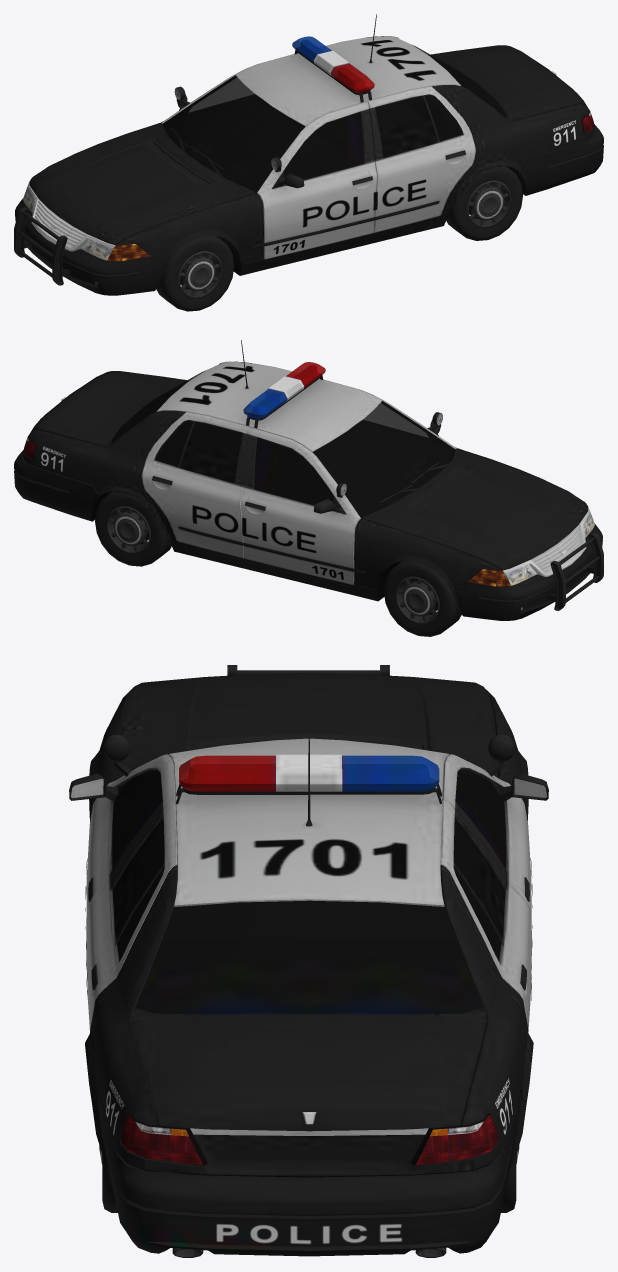
The model's file is police_sedan.glb.
3 views of the same model, one above another, from view 1: azimuth 30°, elevation 25°; view 2: azimuth 150°, elevation 25°; view 3: azimuth 270°, elevation 25° (orthographic). The views are drawn at different scales.
Parts seen in each view (by area): view 1: police_sedan_police_sedan_0, police_sedan_police_glass_0 (×2), police_sedan_police_decal_0, police_sedan_optics_tex_0; view 2: police_sedan_police_sedan_0, police_sedan_police_glass_0 (×2), police_sedan_police_decal_0, police_sedan_optics_tex_0; view 3: police_sedan_police_sedan_0, police_sedan_police_glass_0 (×2), police_sedan_police_decal_0, police_sedan_optics_tex_0.
Boxes of the visible parts, left/top/right/bottom form: police_sedan_police_sedan_0: left=14, top=14, right=603, bottom=311; police_sedan_police_glass_0 (×2): left=162, top=36, right=505, bottom=192; police_sedan_police_decal_0: left=273, top=40, right=575, bottom=253; police_sedan_optics_tex_0: left=23, top=87, right=594, bottom=285; police_sedan_police_sedan_0: left=14, top=340, right=603, bottom=636; police_sedan_police_glass_0 (×2): left=112, top=362, right=455, bottom=518; police_sedan_police_decal_0: left=41, top=366, right=343, bottom=579; police_sedan_optics_tex_0: left=23, top=413, right=594, bottom=611; police_sedan_police_sedan_0: left=69, top=665, right=548, bottom=1257; police_sedan_police_glass_0 (×2): left=112, top=755, right=505, bottom=1014; police_sedan_police_decal_0: left=85, top=839, right=532, bottom=1244; police_sedan_optics_tex_0: left=120, top=1114, right=498, bottom=1165.
Size of the model in its own units: 5.17 by 1.88 by 2.
5 materials, 5 textured.
